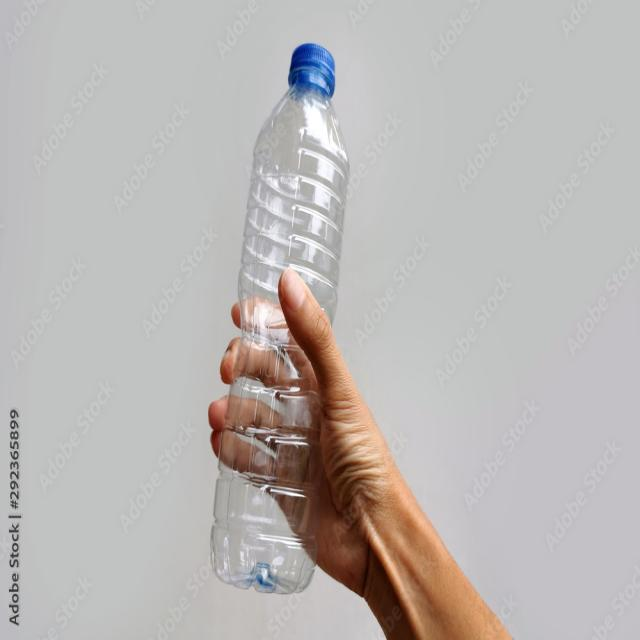bottle: (202, 26, 355, 599)
